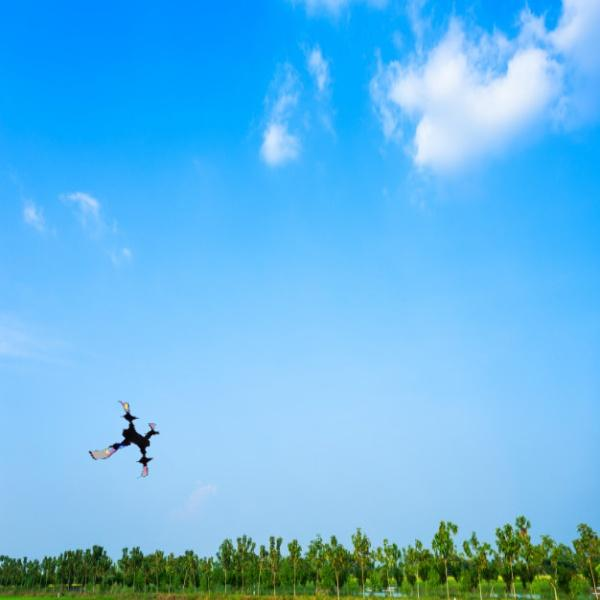drone: (81, 398, 165, 482)
